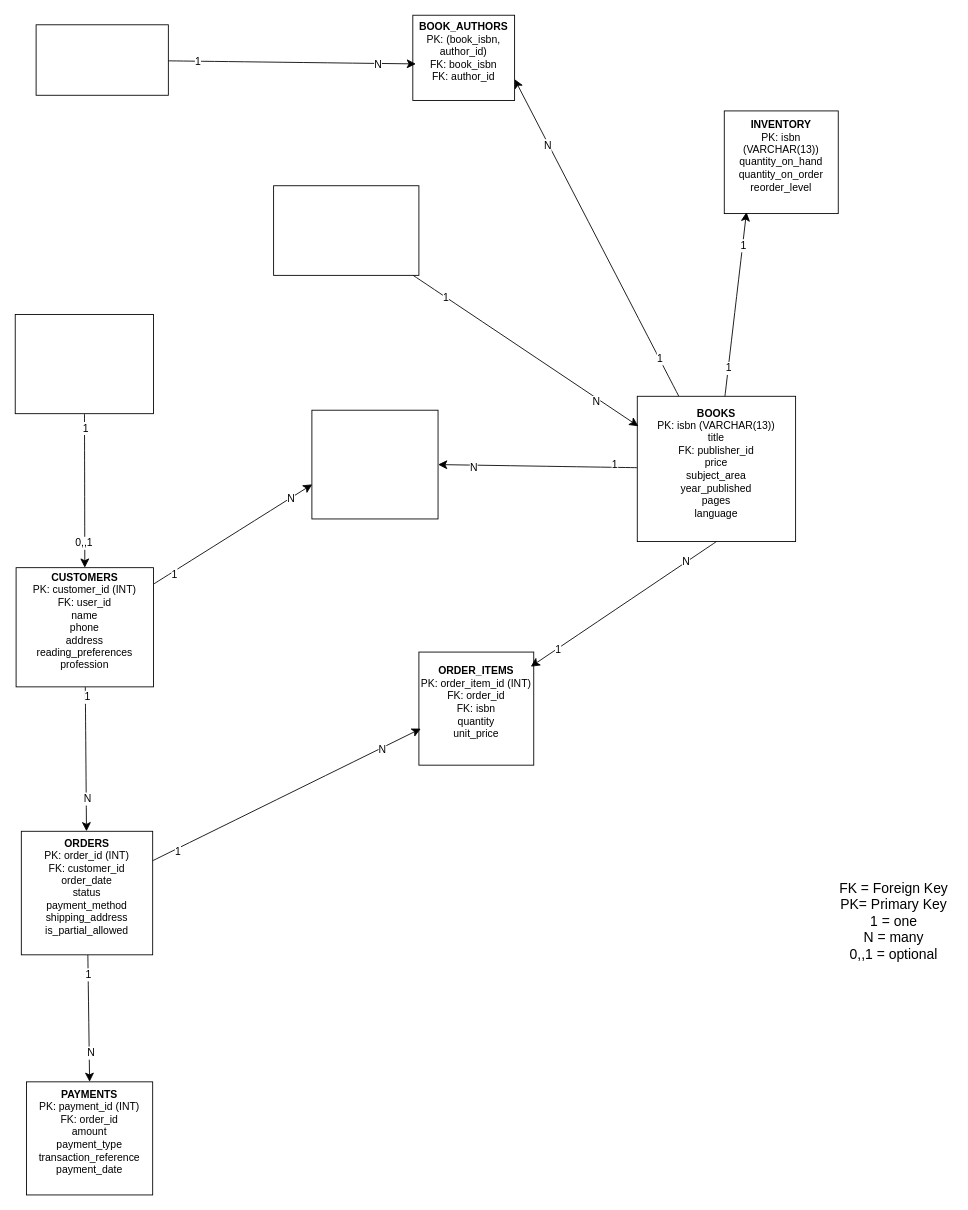
This 968x1210 diagram has some shape labels left out. The shapes that lost their labels are listed below. From the top down, each one's centre as x and y in pixels, then its label:
At (x=101, y=59): "AUTHORS PK: author_id (INT) name bio".
At (x=346, y=230): "PUBLISHERS PK: publisher_id (INT) name address contact_phone".
At (x=84, y=364): "USERS PK: user_id (INT) email password_hash role created_at".
At (x=374, y=464): "REVIEWS PK: review_id (INT) FK: customer_id FK: isbn rating comment review_date".
